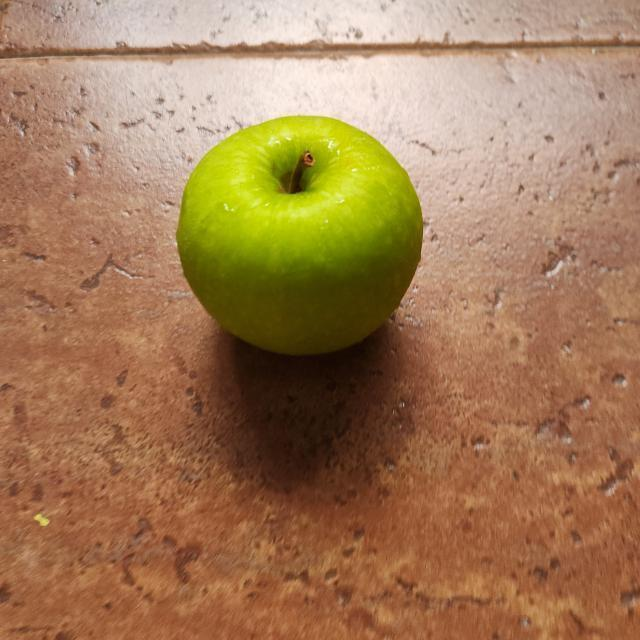apple: (175, 107, 428, 368)
